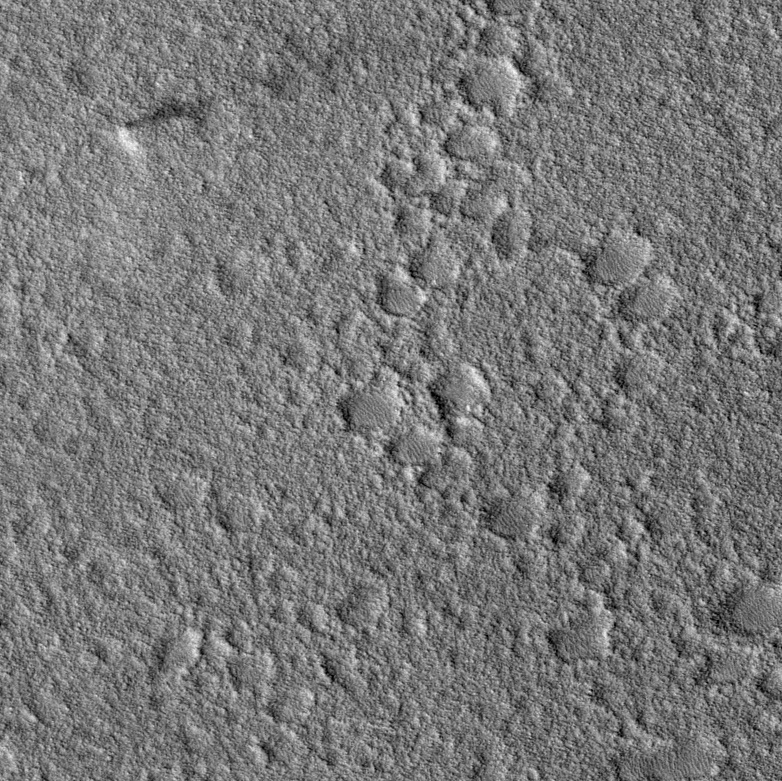dust_devil: (114, 94, 209, 158)
